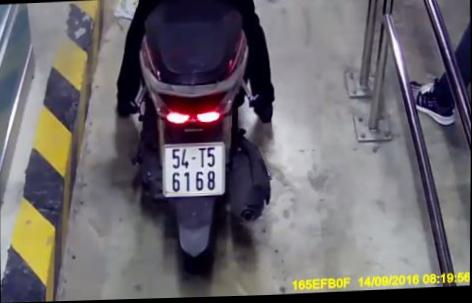LP: (160, 141, 227, 200)
